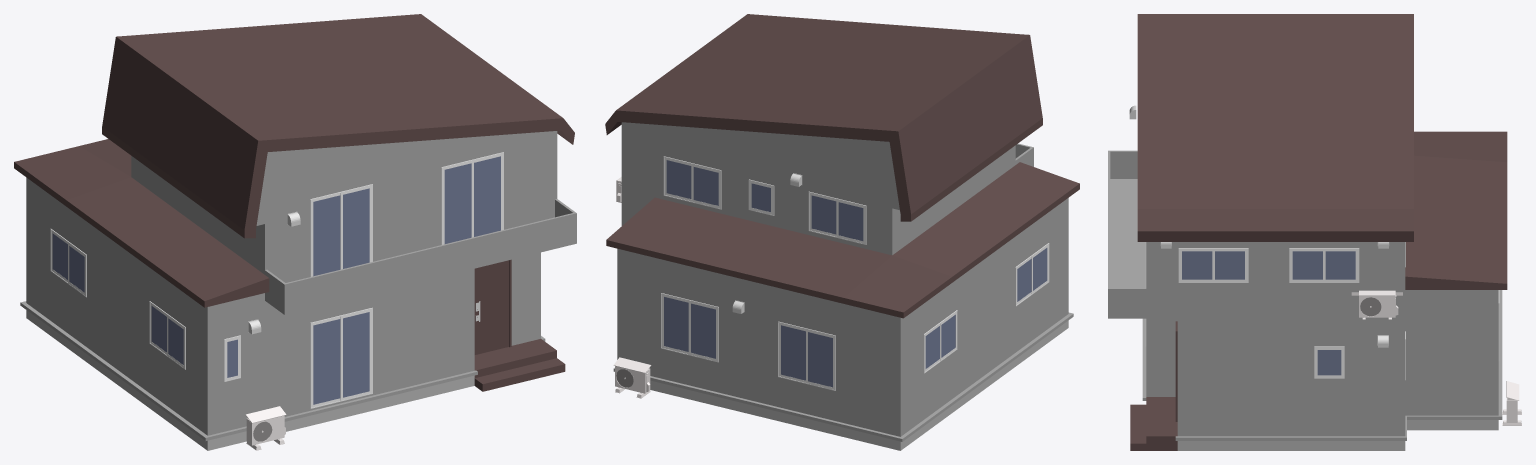
File: MobHouse16.fbx
3 renders of one model, left to right at view 1: azimuth 30°, elevation 25°; view 2: azimuth 150°, elevation 25°; view 3: azimuth 270°, elevation 25°, orthographic. The views are drawn at different scales.
Parts seen in each view (by area): view 1: Flat_half_house01.016; view 2: Flat_half_house01.016; view 3: Flat_half_house01.016.
Part boxes in pixels (x1=…): Flat_half_house01.016: x1=14, y1=14, x2=576, y2=450; Flat_half_house01.016: x1=605, y1=14, x2=1079, y2=450; Flat_half_house01.016: x1=1108, y1=14, x2=1521, y2=450.
Bounding box in the file's own units: 7.72 × 6.02 × 7.7.
